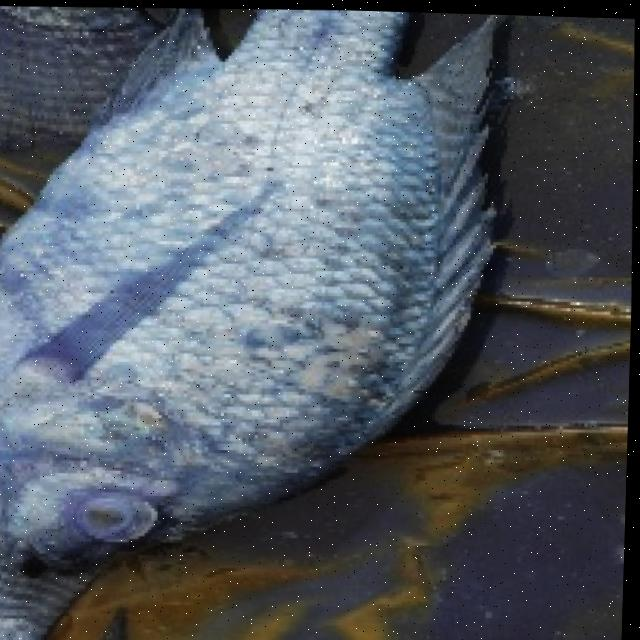Non-Fresh: (0, 77, 341, 595), (62, 473, 173, 562)
